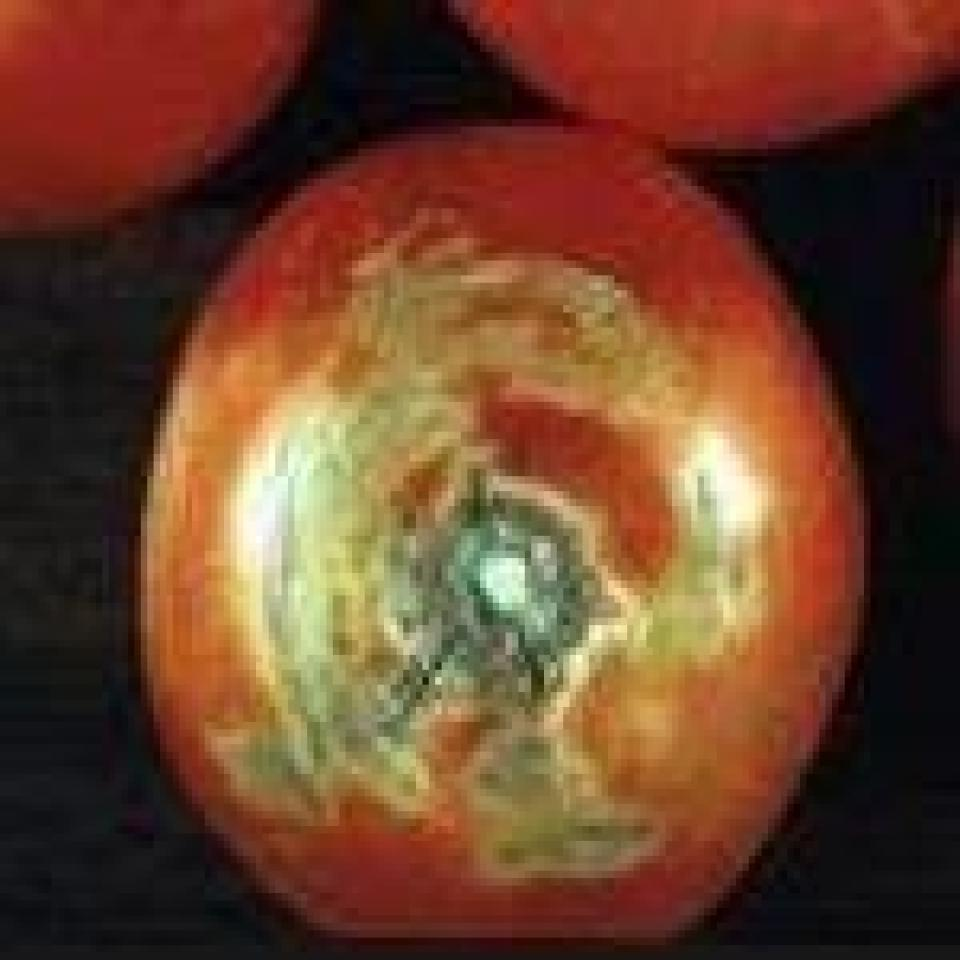Cracking: (187, 228, 749, 928)
